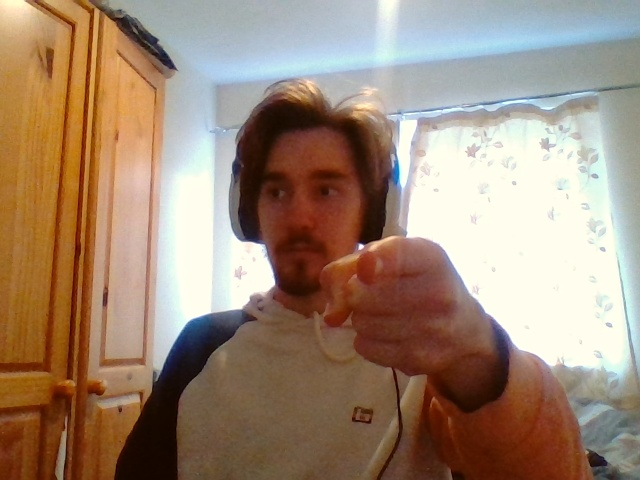you: (319, 236, 460, 373)
